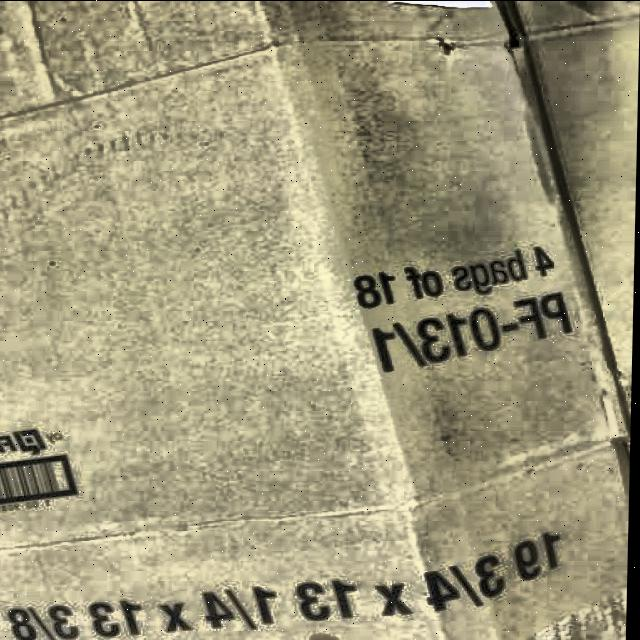cardboard: (0, 1, 640, 640)
